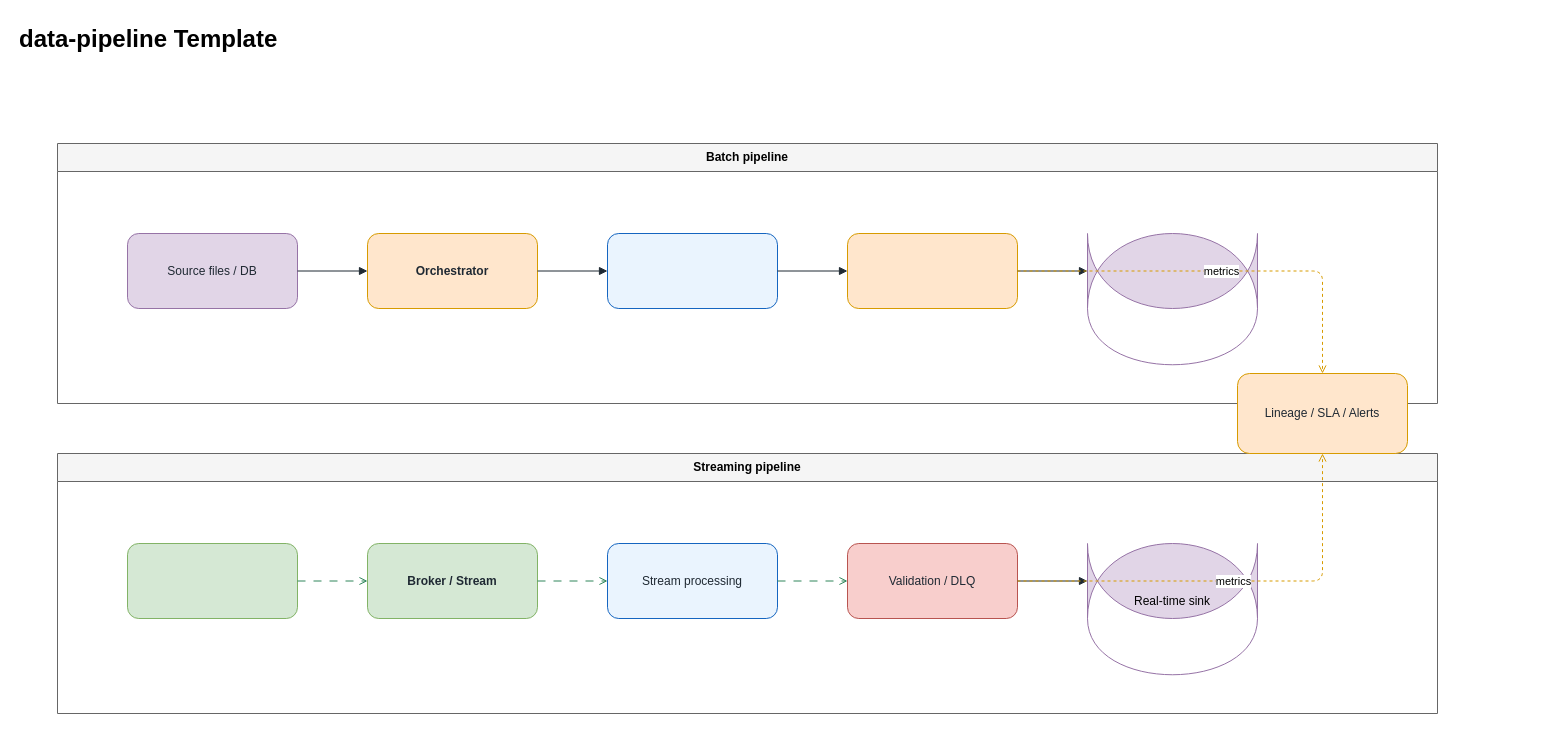
This 1554x731 diagram has some shape labels left out. Here are the shapes that lost their labels. From the top down, the centre of each, then its label:
point (692, 270): Extract / Load
point (932, 270): Quality checks
point (1172, 270): Data mart
point (212, 580): Events / CDC
